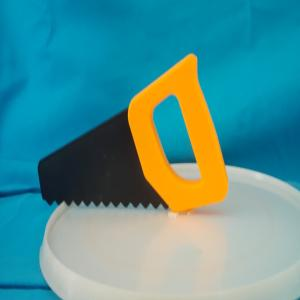serrote: (37, 53, 229, 215)
